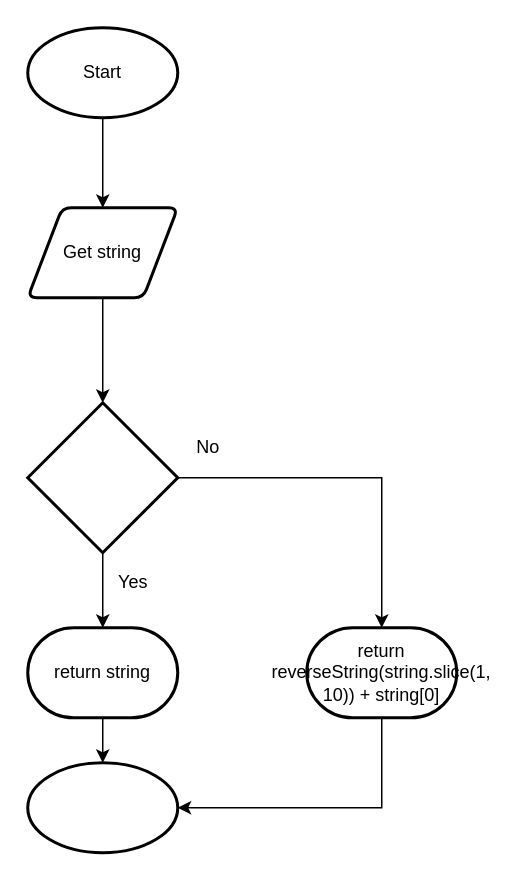
The diagram is 516 pixels wide and 879 high, and some of its shapes have lost their labels. The box of each missing label's shape, as (x1, y1, x2, y2) in pixels:
if (string == ''): (26, 400, 178, 554)
Stop: (26, 760, 178, 854)
